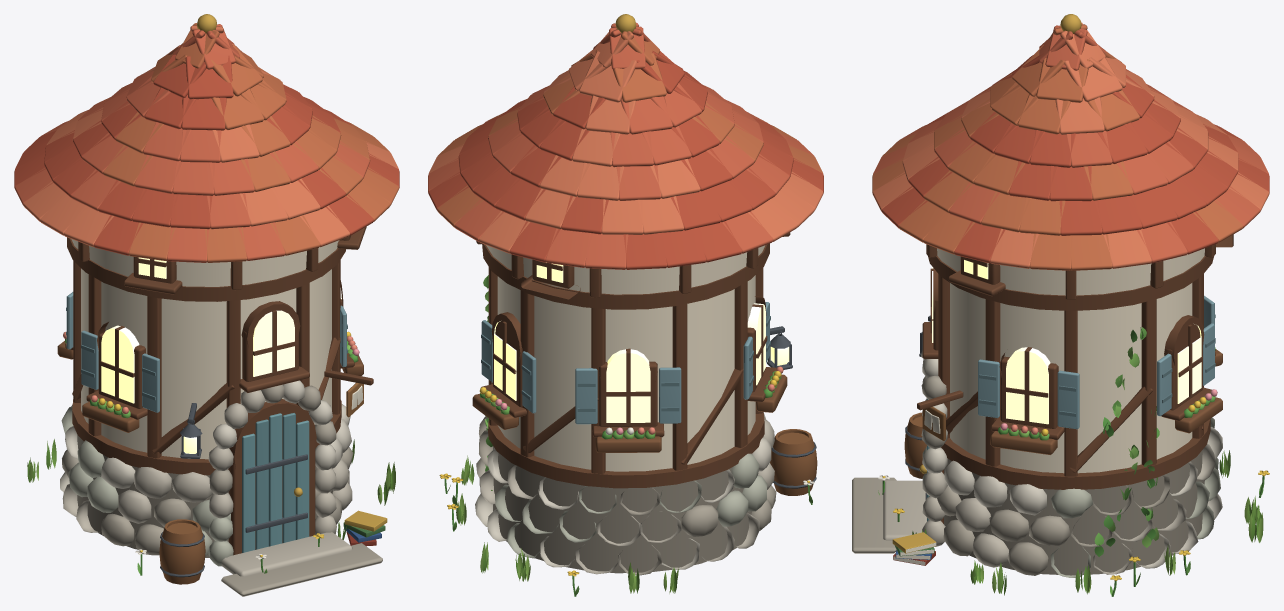
The model's file is library_tower.glb.
3 renders of one model, left to right at view 1: azimuth 30°, elevation 25°; view 2: azimuth 150°, elevation 25°; view 3: azimuth 270°, elevation 25°, orthographic. The views are drawn at different scales.
Parts seen in each view (by area): view 1: Tower; view 2: Tower; view 3: Tower.
Boxes of the visible parts, <box> form: Tower: <box>14,14,399,596</box>; Tower: <box>428,14,823,596</box>; Tower: <box>852,14,1269,596</box>.
Bounding box in the file's own units: 4.47 × 6.26 × 4.68.
